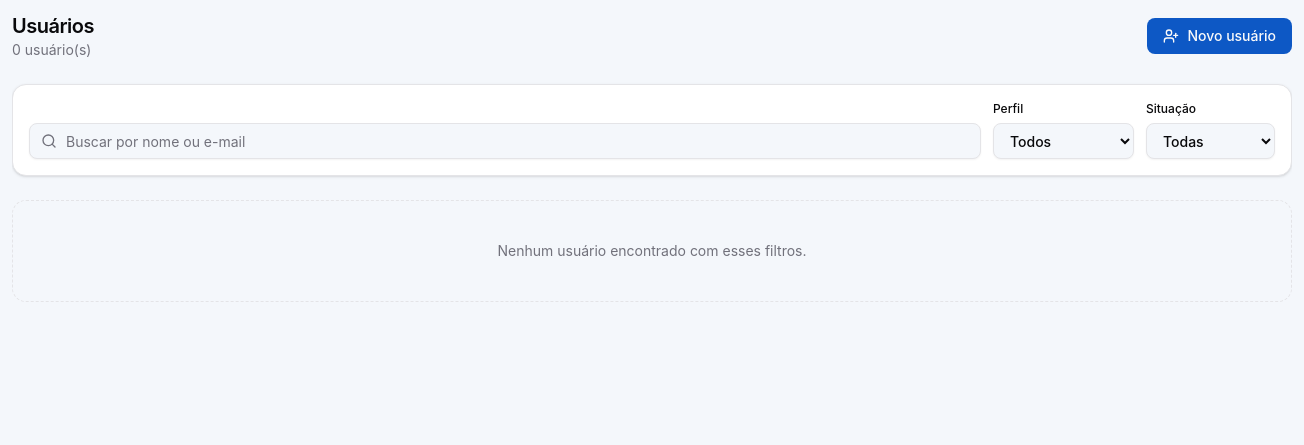
Test case: cadastro pelo administrador › com e-mail, avisa do convite e não mostra senha nenhuma
This screenshot has width=1304, height=445.
Click the button "Novo usuário": {"x": 1220, "y": 36} [1147,18,1292,54]
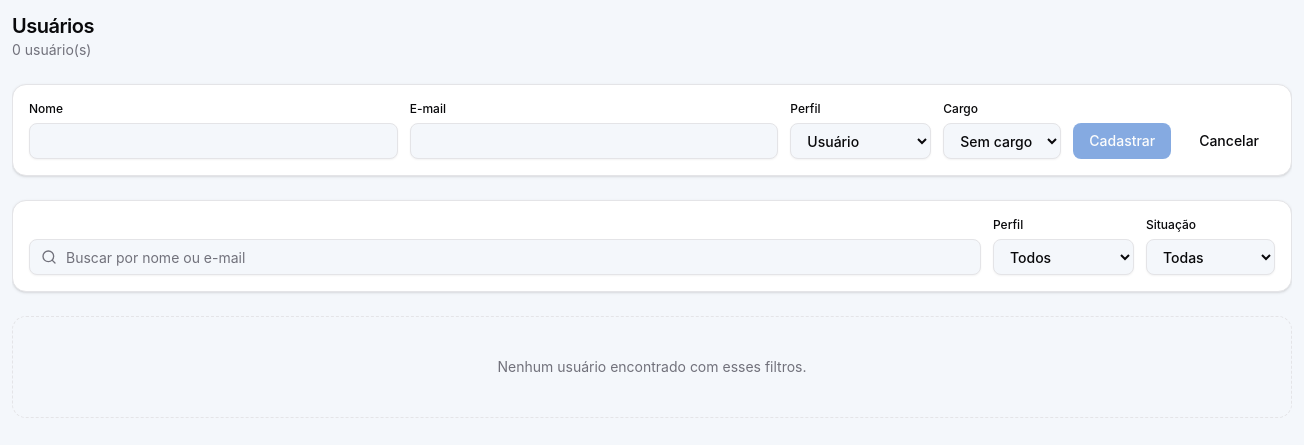
In the field labelled "Nome": {"x": 213, "y": 141} [29,123,398,159], type "Pessoa Nova"
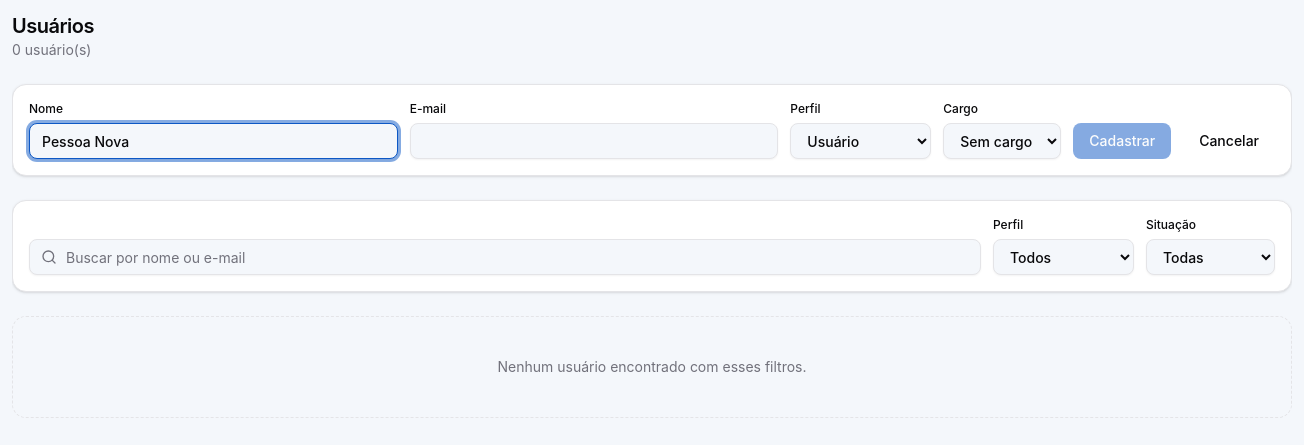
In the field labelled "E-mail": {"x": 594, "y": 141} [410,123,778,159], type "pessoa@empresa.com"
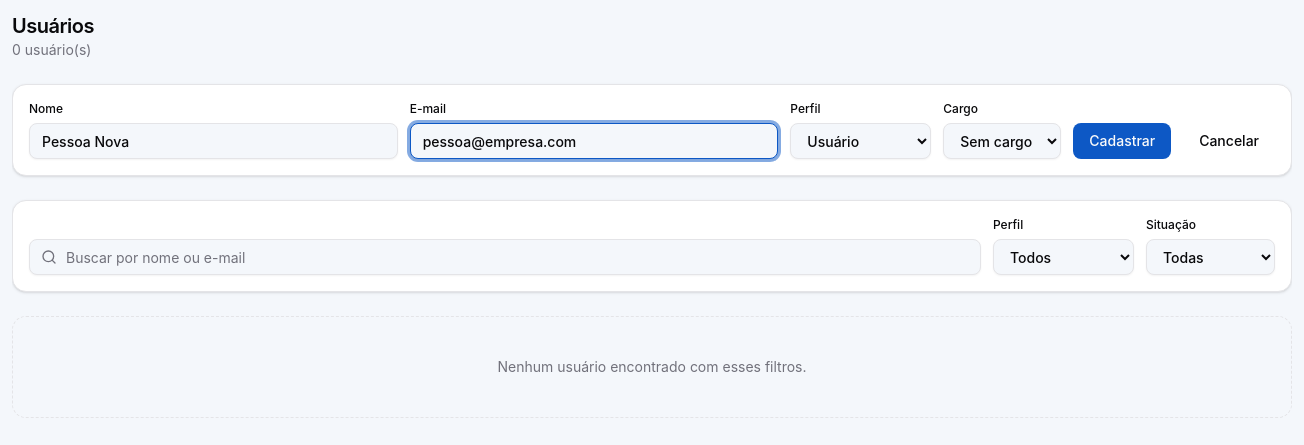
Click the button "Cadastrar": {"x": 1122, "y": 141} [1073,123,1171,159]
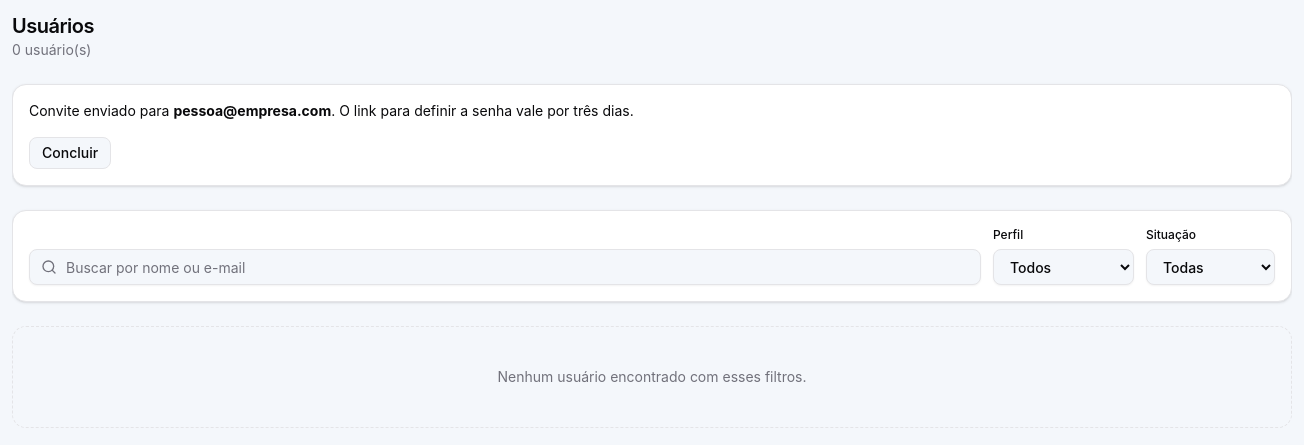
Check: the text "Convite enviado" is shown, box [29,102,173,119]
